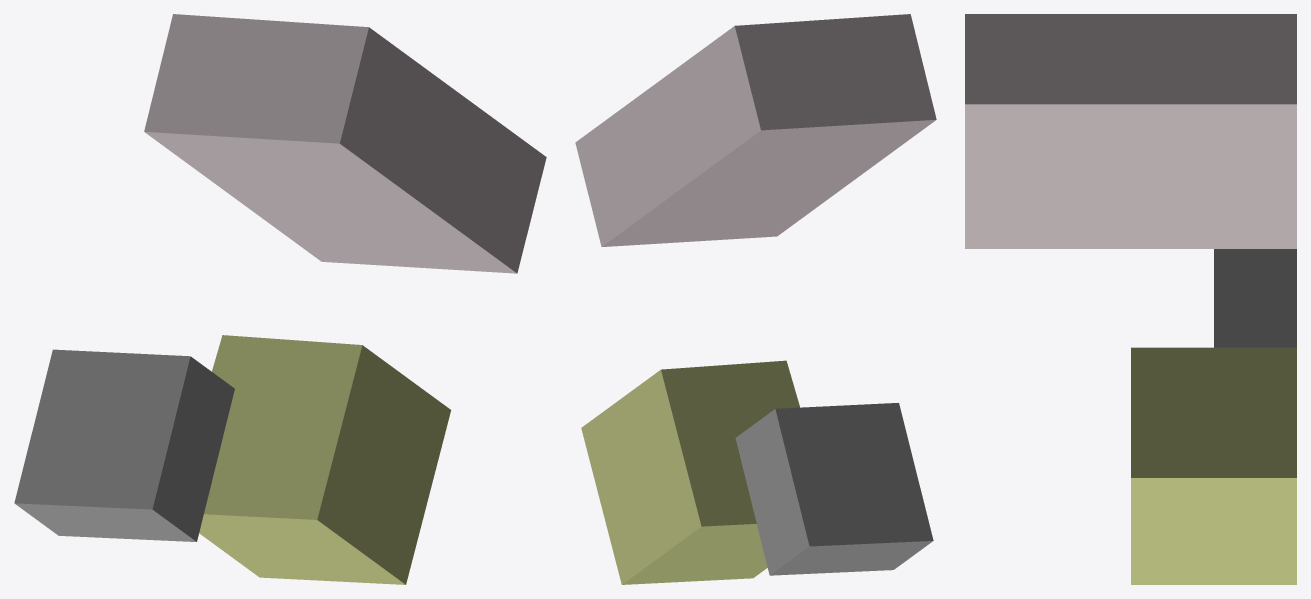
The picture shows the model from 3 angles, left to right: view 1: azimuth 30°, elevation 25°; view 2: azimuth 150°, elevation 25°; view 3: azimuth 270°, elevation 25°; orthographic projection. The views are drawn at different scales.
Parts seen in each view (by area): view 1: 0_1_0_0_2_1_0_1_2_2; view 2: 0_1_0_0_2_1_0_1_2_2; view 3: 0_1_0_0_2_1_0_1_2_2.
Boxes of the visible parts, x1,y1,x2,y2 form: 0_1_0_0_2_1_0_1_2_2: [14, 14, 546, 584]; 0_1_0_0_2_1_0_1_2_2: [575, 14, 936, 584]; 0_1_0_0_2_1_0_1_2_2: [965, 14, 1296, 584].
Bounding box in the file's own units: 13.84 × 20.17 × 12.
